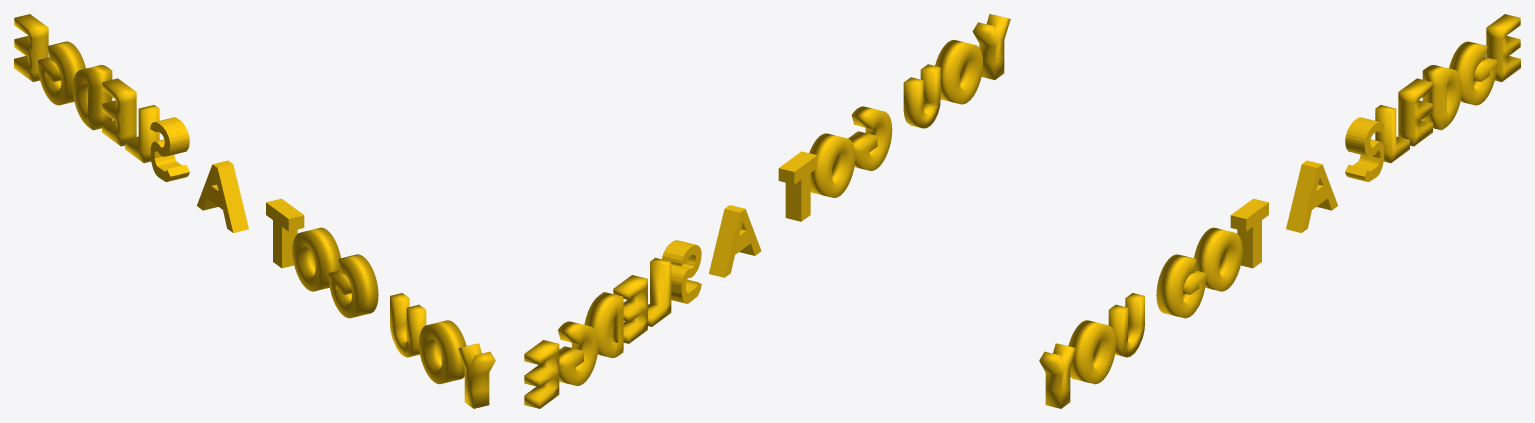
Rendered from you got a star.fbx.
The picture shows the model from 3 angles, left to right: view 1: azimuth 30°, elevation 25°; view 2: azimuth 150°, elevation 25°; view 3: azimuth 330°, elevation 25°; orthographic projection.
Parts seen in each view (by area): view 1: Cylinder.001, Cylinder, Cylinder.002, Cube.003, Cylinder.004, Cube.004, Cylinder.003, Cube.006, Cube.001, Cube.007, Cube.002, Cube (+1 smaller); view 2: Cylinder, Cylinder.002, Cube.003, Cylinder.004, Cylinder.001, Cube.007, Cube.001, Cylinder.003, Cube.002, Cube.004, Cube.006, Cube (+1 smaller); view 3: Cylinder.001, Cylinder, Cylinder.002, Cube.003, Cylinder.004, Cube.004, Cylinder.003, Cube.006, Cube.001, Cube.007, Cube.002, Cube (+1 smaller).
Boxes of the visible parts, <box> form: Cylinder.001: <box>328,254,378,318</box>; Cylinder: <box>419,320,466,384</box>; Cylinder.002: <box>292,227,340,291</box>; Cube.003: <box>197,160,248,232</box>; Cylinder.004: <box>38,41,85,105</box>; Cube.004: <box>150,117,189,181</box>; Cylinder.003: <box>73,64,112,130</box>; Cube.006: <box>102,78,136,146</box>; Cube.001: <box>390,293,426,357</box>; Cube.007: <box>14,14,48,81</box>; Cube.002: <box>266,198,304,268</box>; Cube: <box>458,343,495,408</box>; Cylinder: <box>935,40,983,104</box>; Cylinder.002: <box>809,133,855,197</box>; Cube.003: <box>708,205,761,277</box>; Cylinder.004: <box>558,321,598,385</box>; Cylinder.001: <box>848,106,892,170</box>; Cube.007: <box>524,340,559,408</box>; Cube.001: <box>903,64,940,128</box>; Cylinder.003: <box>584,292,623,358</box>; Cube.002: <box>778,151,817,221</box>; Cube.004: <box>662,240,701,303</box>; Cube.006: <box>613,275,647,343</box>; Cube: <box>972,14,1010,79</box>; Cylinder.001: <box>1156,254,1206,318</box>; Cylinder: <box>1068,320,1115,384</box>; Cylinder.002: <box>1194,227,1242,291</box>; Cube.003: <box>1286,160,1337,232</box>; Cylinder.004: <box>1449,41,1496,105</box>; Cube.004: <box>1345,117,1384,181</box>; Cylinder.003: <box>1422,64,1461,130</box>; Cube.006: <box>1398,78,1432,146</box>; Cube.001: <box>1108,293,1144,357</box>; Cube.007: <box>1486,14,1520,81</box>; Cube.002: <box>1230,198,1268,268</box>; Cube: <box>1039,343,1076,408</box>.
Bounding box in the file's own units: 248 × 697 × 10291.
